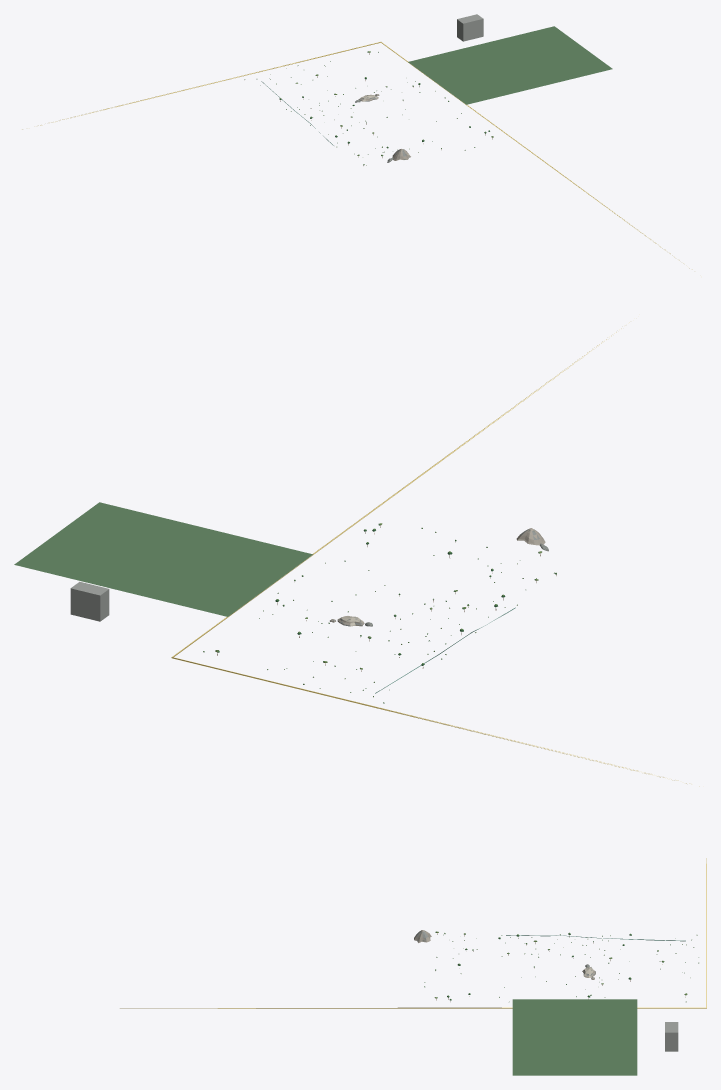
Rendered from cell_6_-3_lod1.gltf.
3 renders of one model, top to bottom at view 1: azimuth 30°, elevation 25°; view 2: azimuth 150°, elevation 25°; view 3: azimuth 270°, elevation 25°, orthographic. The views are drawn at different scales.
Parts seen in each view (by area): view 1: OPENSPACE_3370, EKITI_RESERVE_BOUNDARY_REVIEW_V1, MASS_SHARED_007; view 2: OPENSPACE_3370, EKITI_RESERVE_BOUNDARY_REVIEW_V1, MASS_SHARED_007; view 3: OPENSPACE_3370, EKITI_RESERVE_BOUNDARY_REVIEW_V1, MASS_SHARED_007.
Boxes of the visible parts, box(x1,y1,x2,y2) form: OPENSPACE_3370: box(408, 26, 612, 104); EKITI_RESERVE_BOUNDARY_REVIEW_V1: box(22, 42, 692, 269); MASS_SHARED_007: box(457, 14, 483, 41); OPENSPACE_3370: box(14, 502, 312, 616); EKITI_RESERVE_BOUNDARY_REVIEW_V1: box(171, 322, 699, 786); MASS_SHARED_007: box(70, 581, 109, 621); OPENSPACE_3370: box(512, 999, 637, 1075); EKITI_RESERVE_BOUNDARY_REVIEW_V1: box(120, 858, 706, 1008); MASS_SHARED_007: box(665, 1022, 678, 1051).
Bounding box in the file's own units: 901 × 32.55 × 1001.
